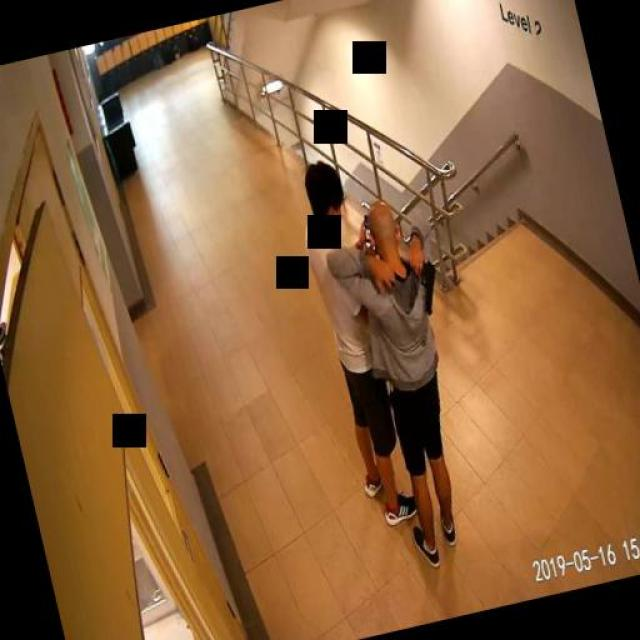gun: (407, 247, 442, 315)
